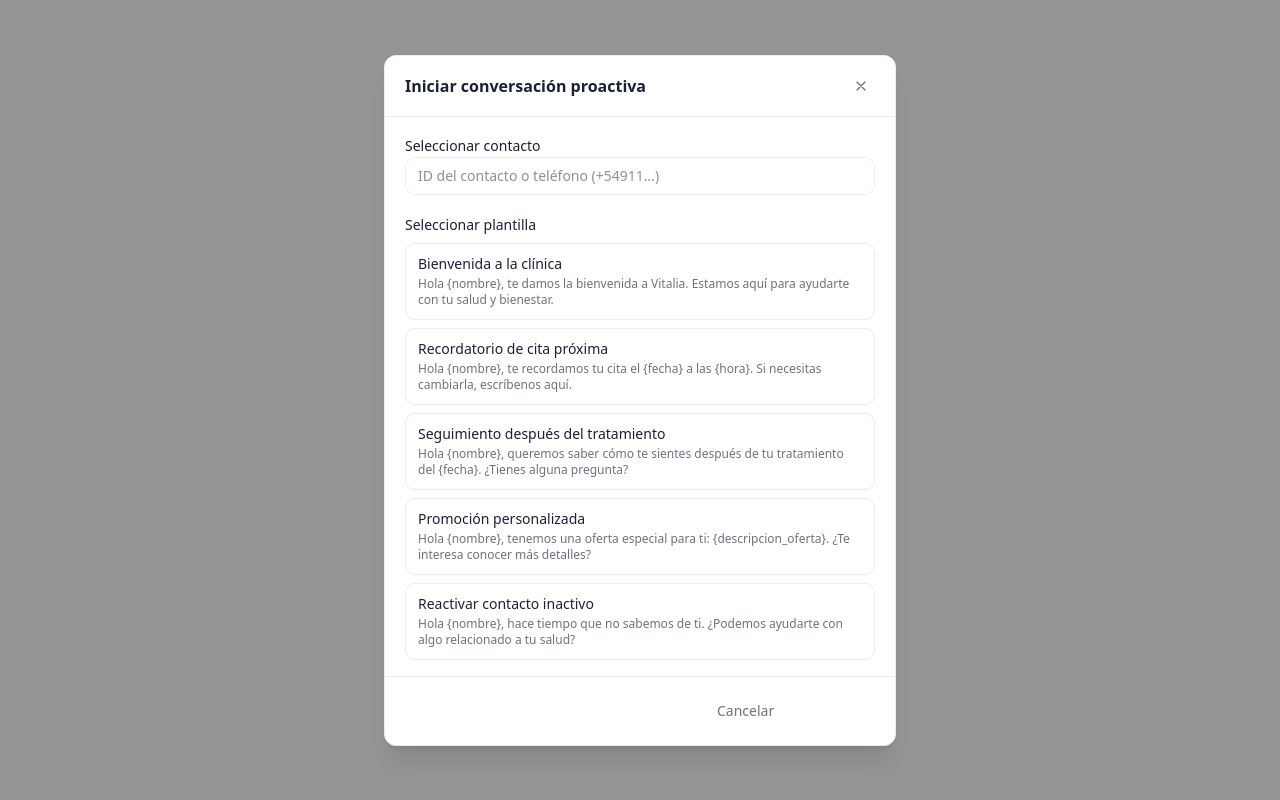
ProactiveOutboundModal — open state › shows WA preview section label after template is selected
The width and height of the screenshot is (1280, 800).
# Preview only appears after template selection
Click the radio button with test id "^template-option-". click: (640, 281)
box: [405, 242, 875, 320]
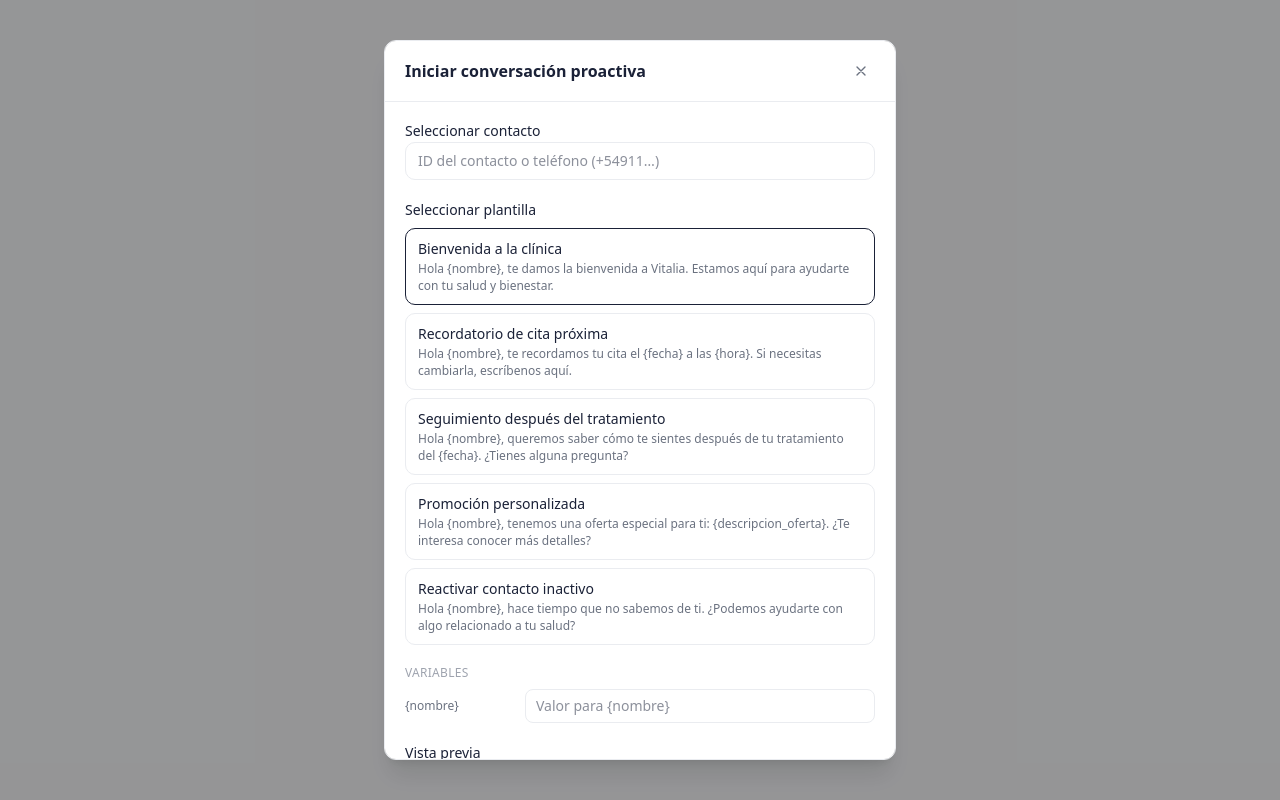
expect the text "Vista previa" is shown: met, box [405, 743, 481, 760]
